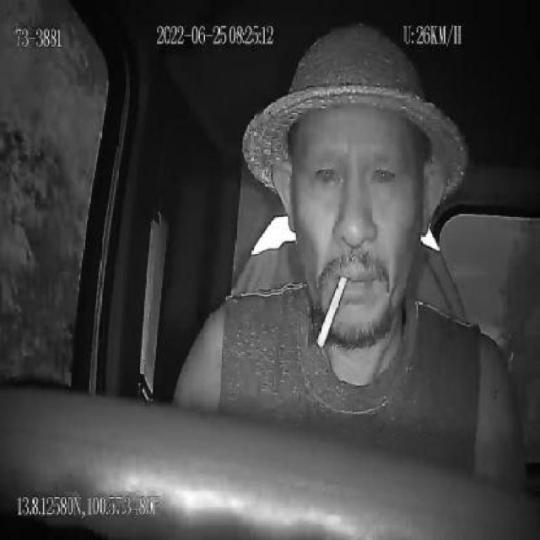smoking: (317, 273, 348, 356)
